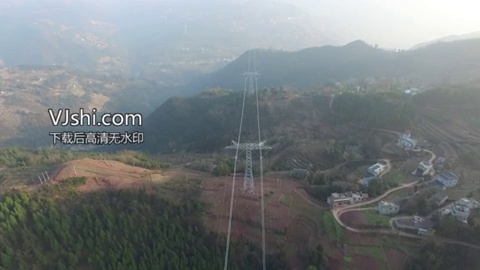tower_body: (223, 137, 274, 199)
tower_foot: (242, 175, 257, 196)
tower_head: (226, 140, 270, 151)
